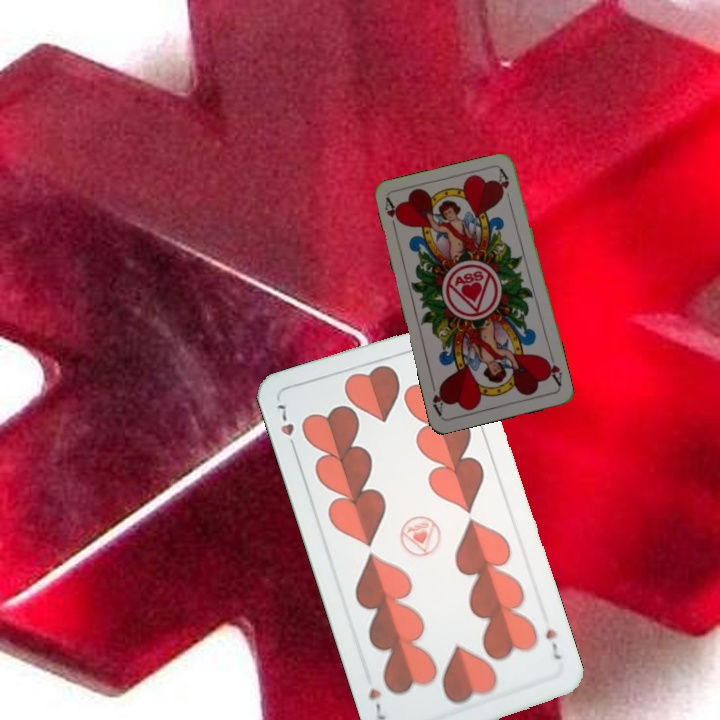H7: (273, 400, 300, 454), (541, 625, 564, 662)
HA: (541, 349, 564, 389), (381, 195, 404, 235)
